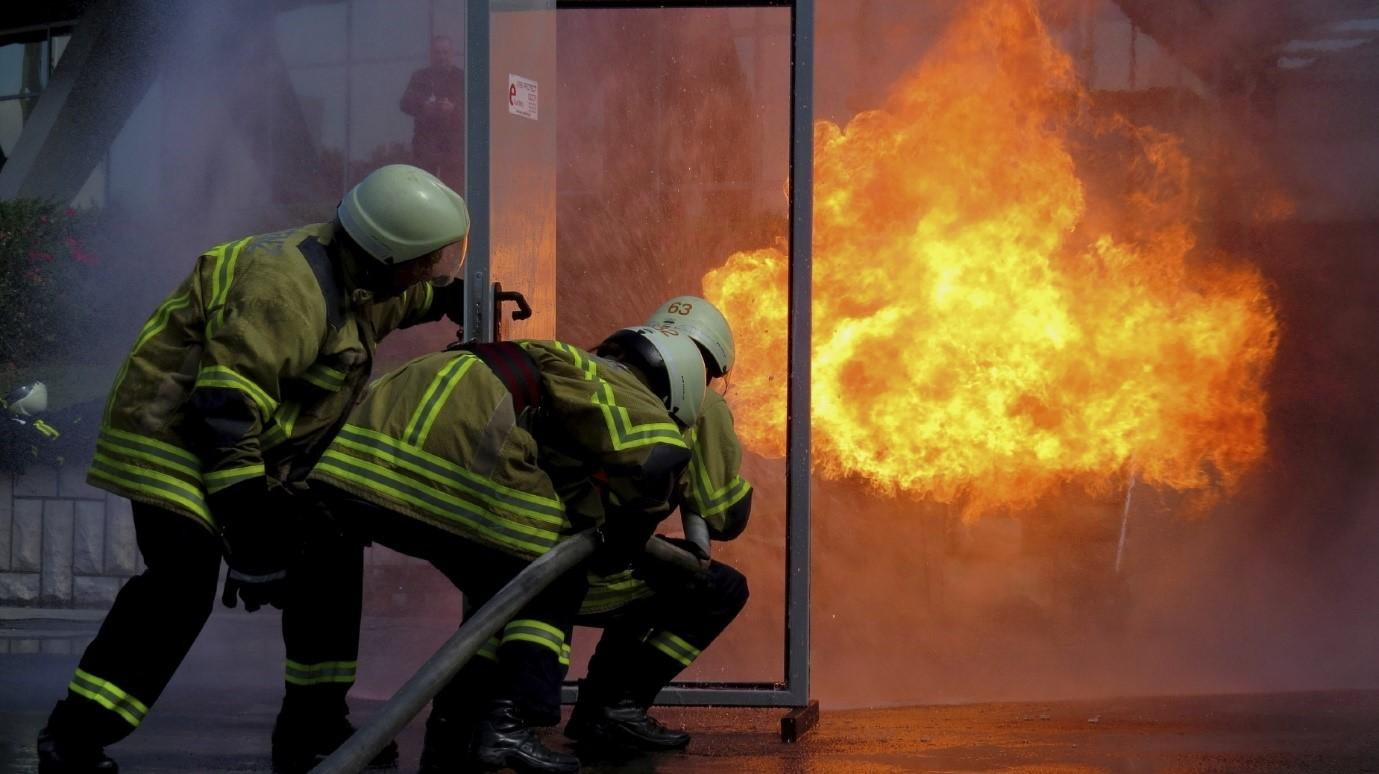Fire: (683, 31, 1296, 512)
